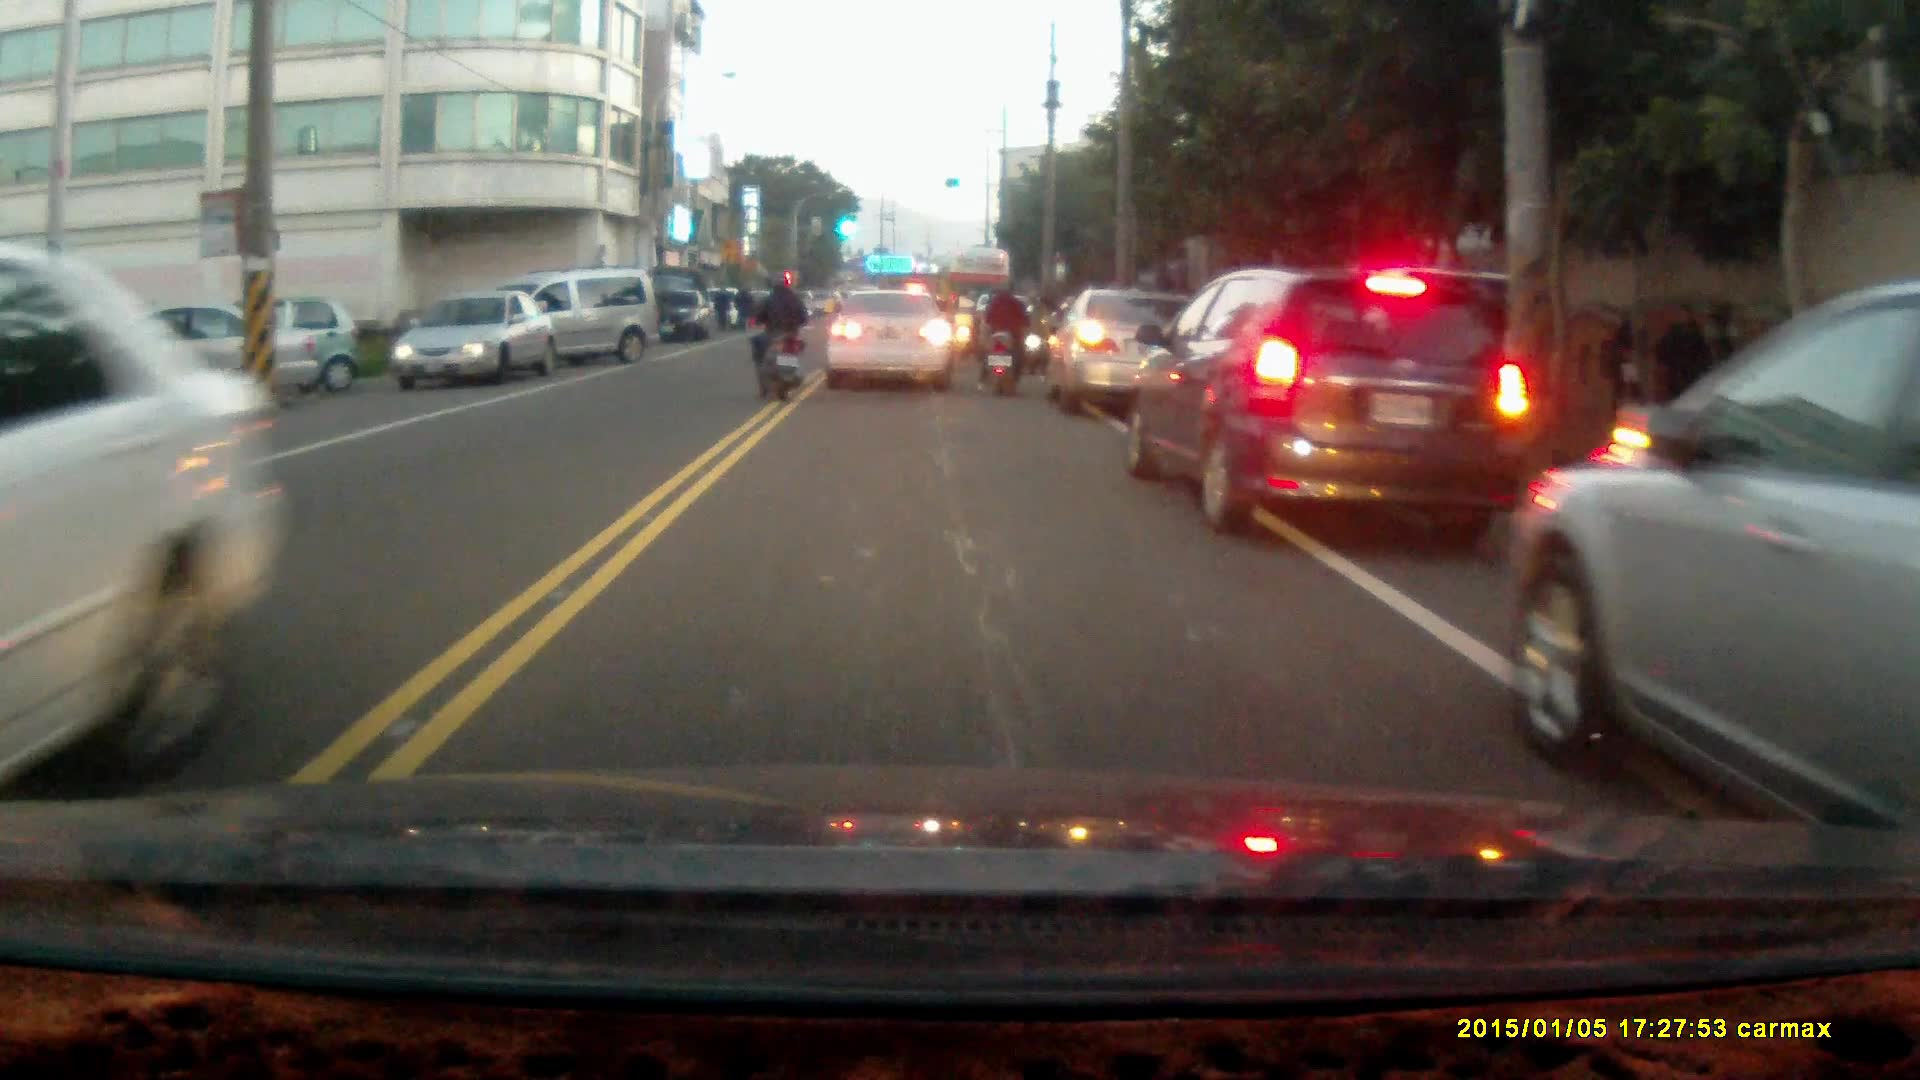pedestrian: (1658, 302, 1712, 441), (1606, 304, 1653, 445)
rider: (749, 276, 810, 401), (974, 272, 1034, 400)
vehicle: (1501, 283, 1920, 858), (1, 245, 264, 813), (1119, 264, 1533, 538), (156, 294, 370, 395), (1046, 289, 1197, 415), (494, 269, 661, 373), (391, 288, 556, 391), (827, 289, 953, 399), (653, 290, 710, 345)
